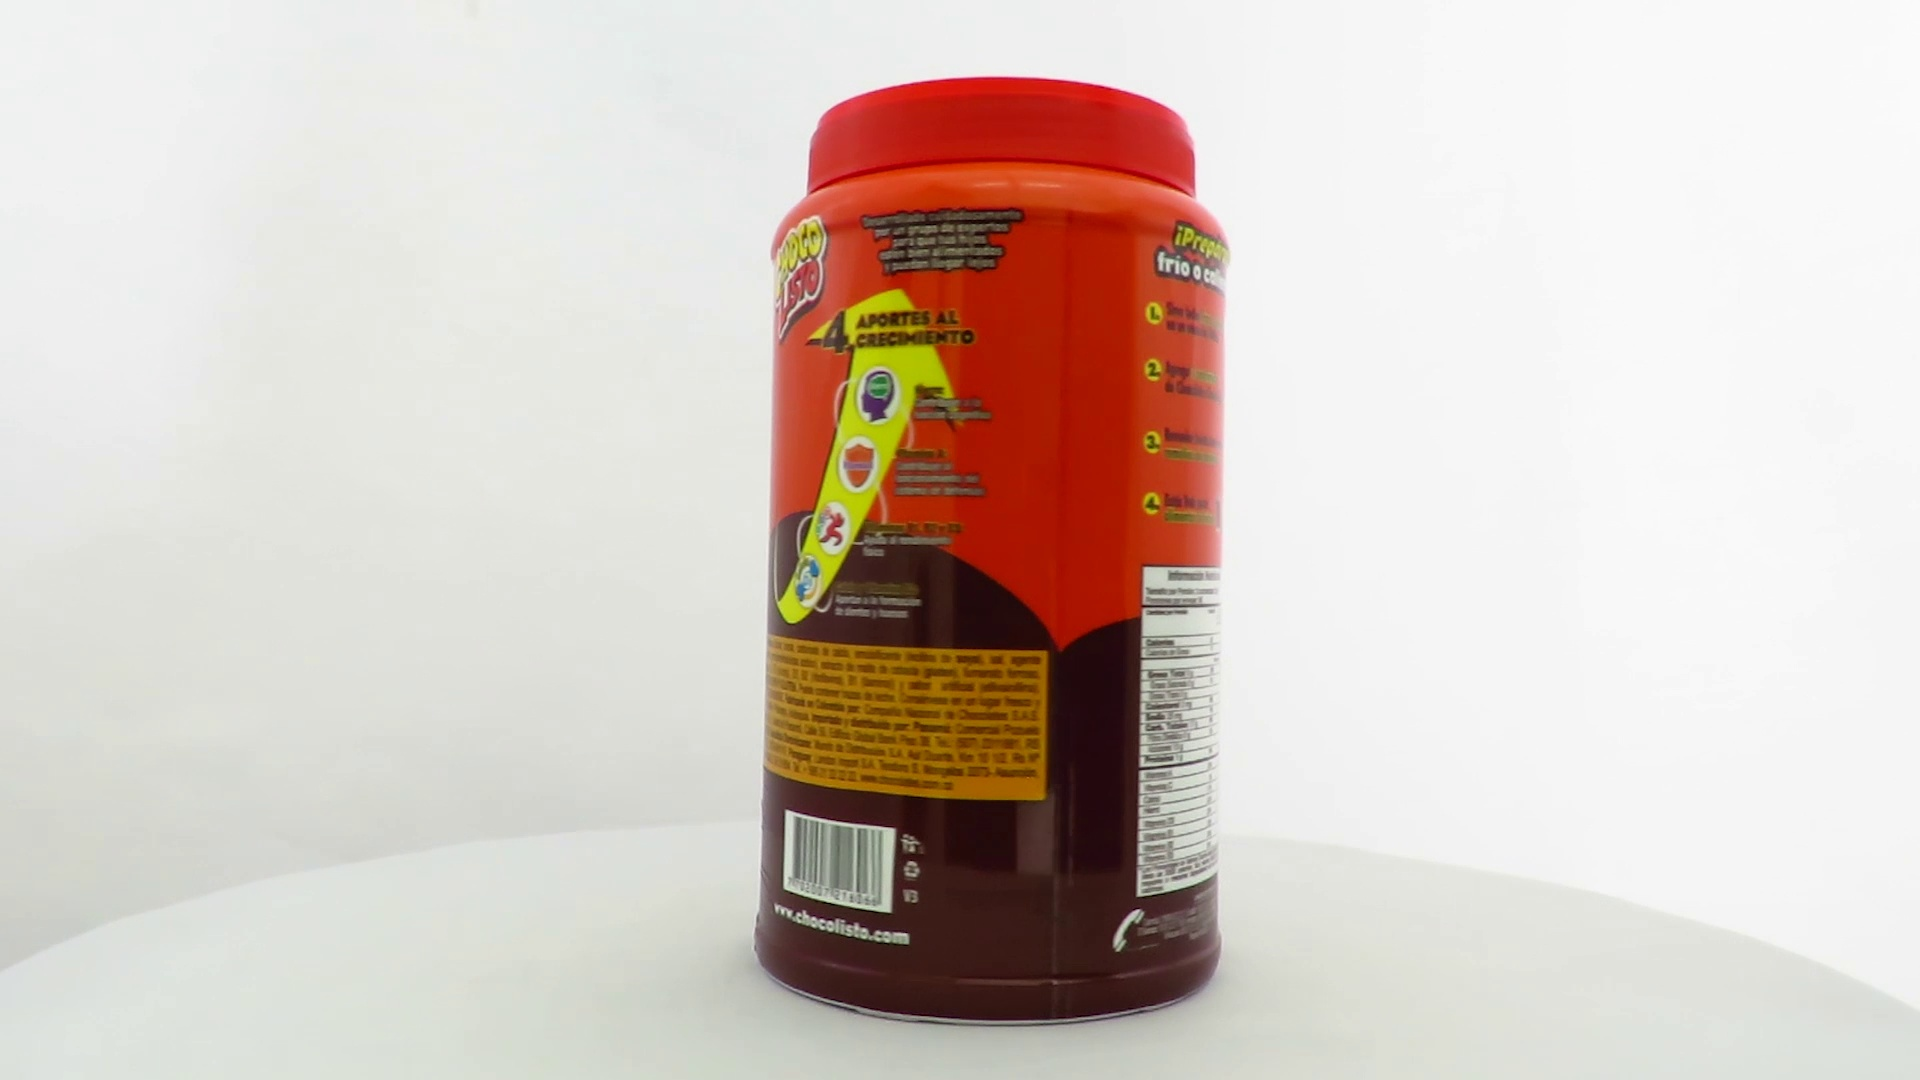COL0170103TRR00100: (748, 73, 1232, 1033)
